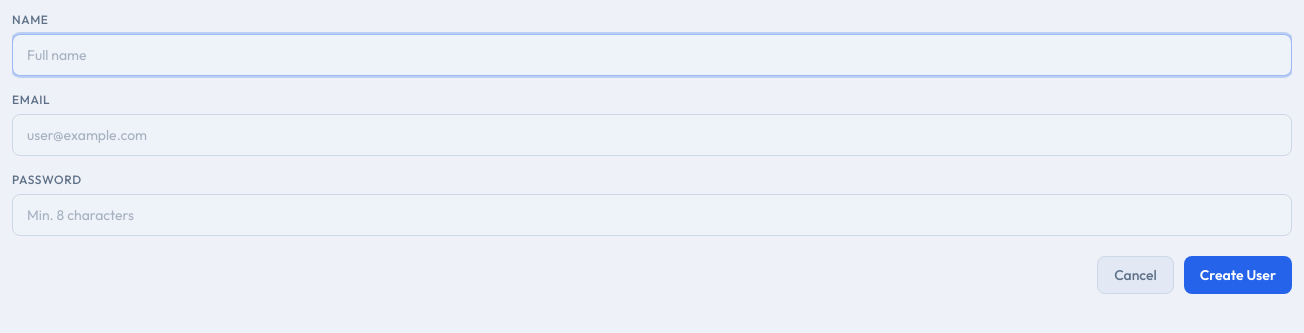
it: UserForm — validation › shows an email error when email is invalid
Type "Test User" into the field with placeholder "Full name" at [652, 55], box [12,34,1292,76]
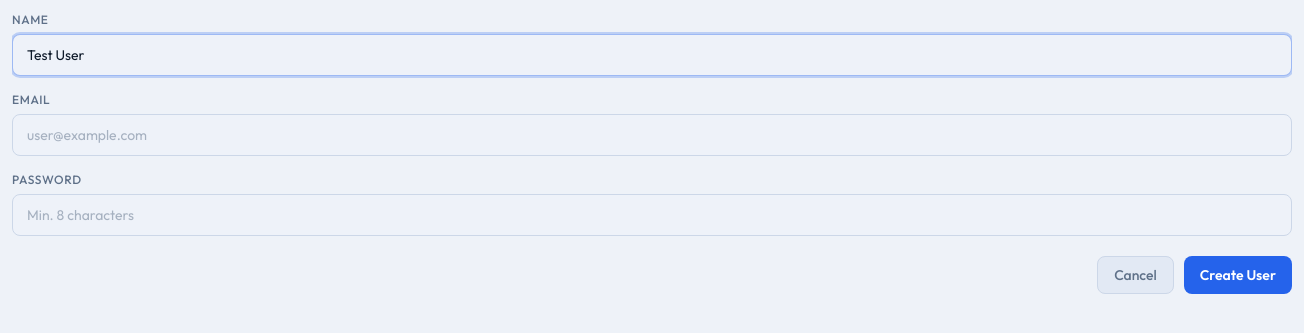
Type "not-an-email" into the field with placeholder "user@example.com" at [652, 135], box [12,114,1292,156]
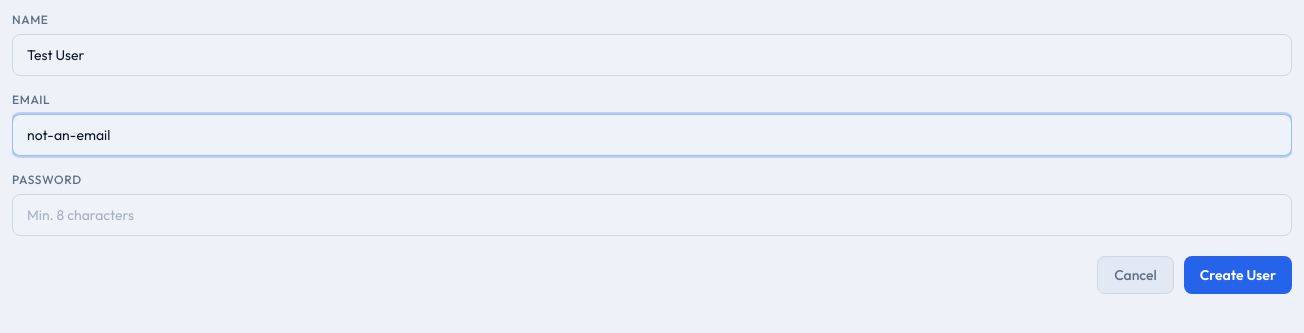
Type "password123" into the password field with placeholder "Min. 8 characters" at [652, 215], box [12,194,1292,236]
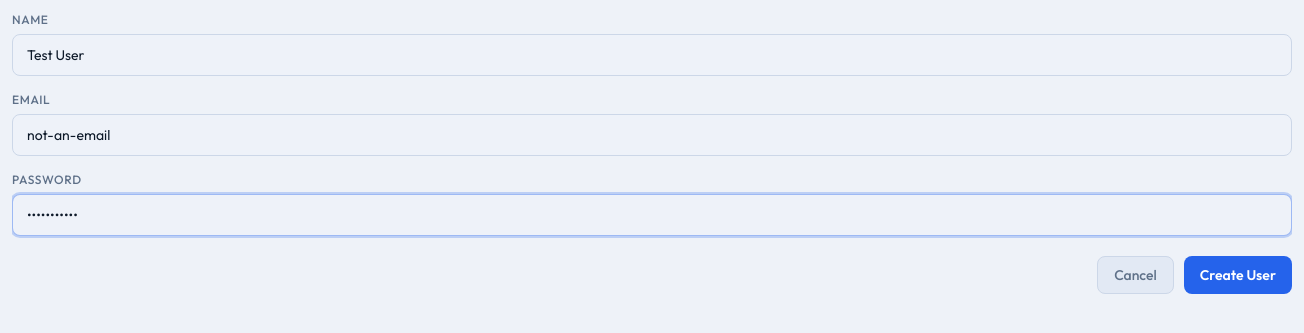
Click the button "Create User" at [1238, 275], box [1184,256,1292,294]
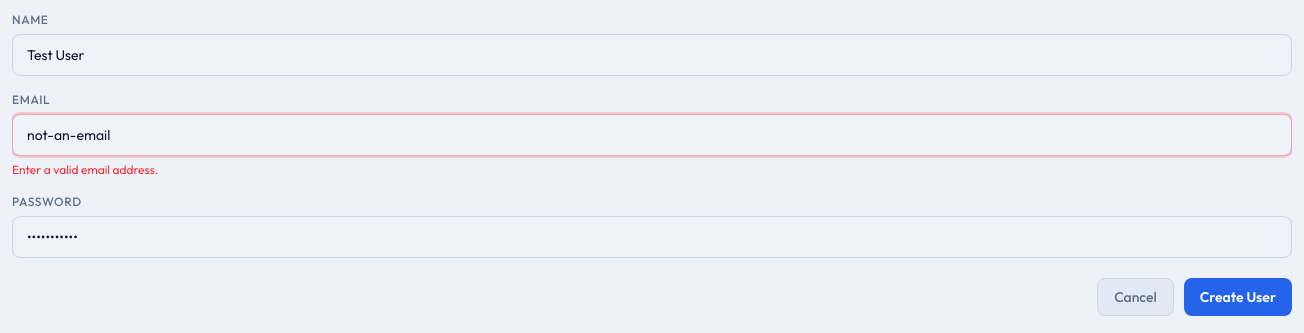
Check: the text "Enter a valid email address." is shown, box [12,162,158,177]
